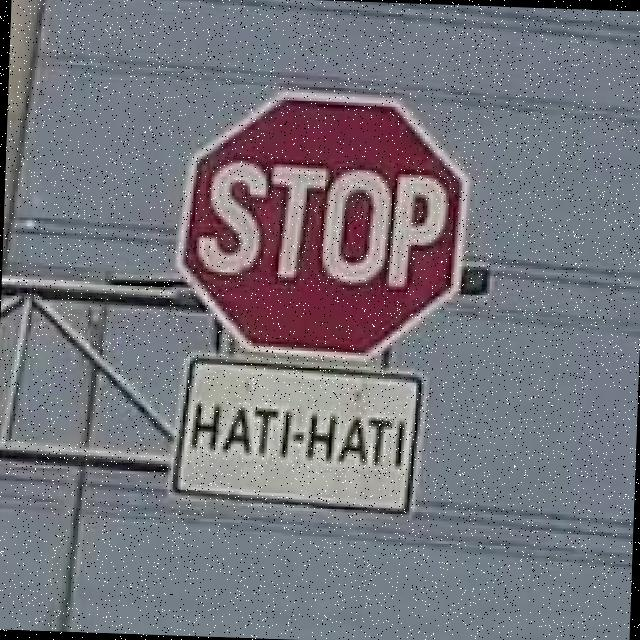Stop: (182, 86, 465, 364)
